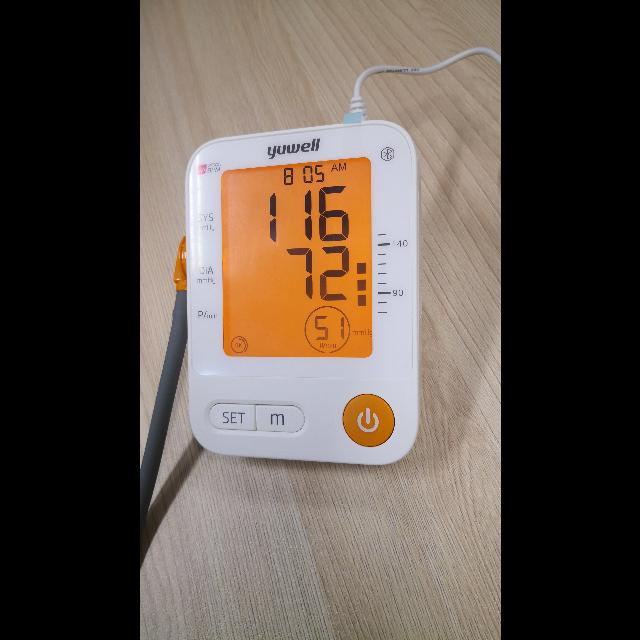Blood-Pressure-Monitor: (187, 120, 419, 466)
